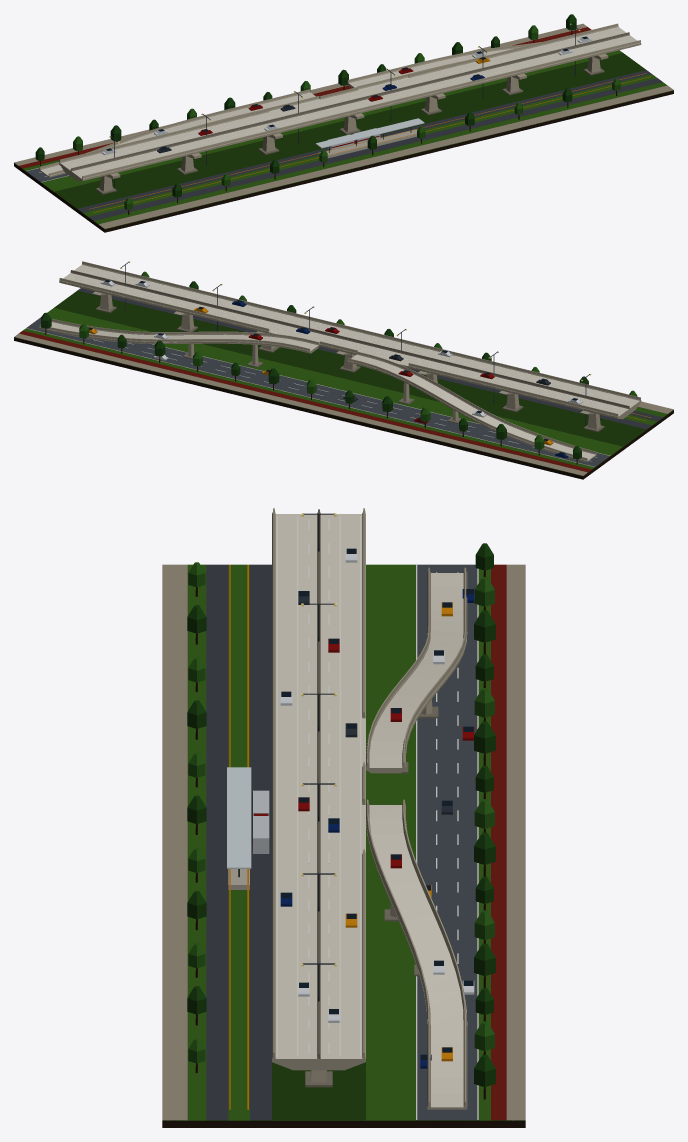
File: via-expresa-tinkercad.obj
3 views of the same model, one above another, from view 1: azimuth 30°, elevation 25°; view 2: azimuth 150°, elevation 25°; view 3: azimuth 270°, elevation 25° (orthographic). The views are drawn at different scales.
Visible parts, largest first — view 1: CorredorVial, Terreno, ViaElevada, ViaElevadaEncima, Rampas, Arboles, Columnas, Estacion, Vehiculos; view 2: CorredorVial, Terreno, ViaElevada, ViaElevadaEncima, Rampas, Arboles, Columnas, Vehiculos; view 3: CorredorVial, ViaElevada, Terreno, Rampas, Arboles, ViaElevadaEncima, Estacion, Vehiculos.
Boxes of the visible parts, x1,y1,x2,y2 form: CorredorVial: (14,23,673,228); Terreno: (14,50,673,232); ViaElevada: (59,27,641,181); ViaElevadaEncima: (59,23,640,188); Rampas: (39,42,541,177); Arboles: (35,14,620,214); Columnas: (95,53,608,194); Estacion: (315,118,424,158); Vehiculos: (58,36,592,164); CorredorVial: (14,288,673,475); Terreno: (14,308,673,479); ViaElevada: (59,264,641,419); ViaElevadaEncima: (59,261,640,425); Rampas: (39,319,596,462); Arboles: (41,271,637,464); Columnas: (92,291,604,432); Vehiculos: (88,279,582,458); CorredorVial: (162,564,525,1120); ViaElevada: (272,514,365,1070); Terreno: (162,564,525,1127); Rampas: (366,567,467,1109); Arboles: (187,543,495,1099); ViaElevadaEncima: (272,508,365,1058); Estacion: (227,767,269,889); Vehiculos: (280,548,474,1068).
Bounding box in the file's own units: 210 × 18.7 × 58.
